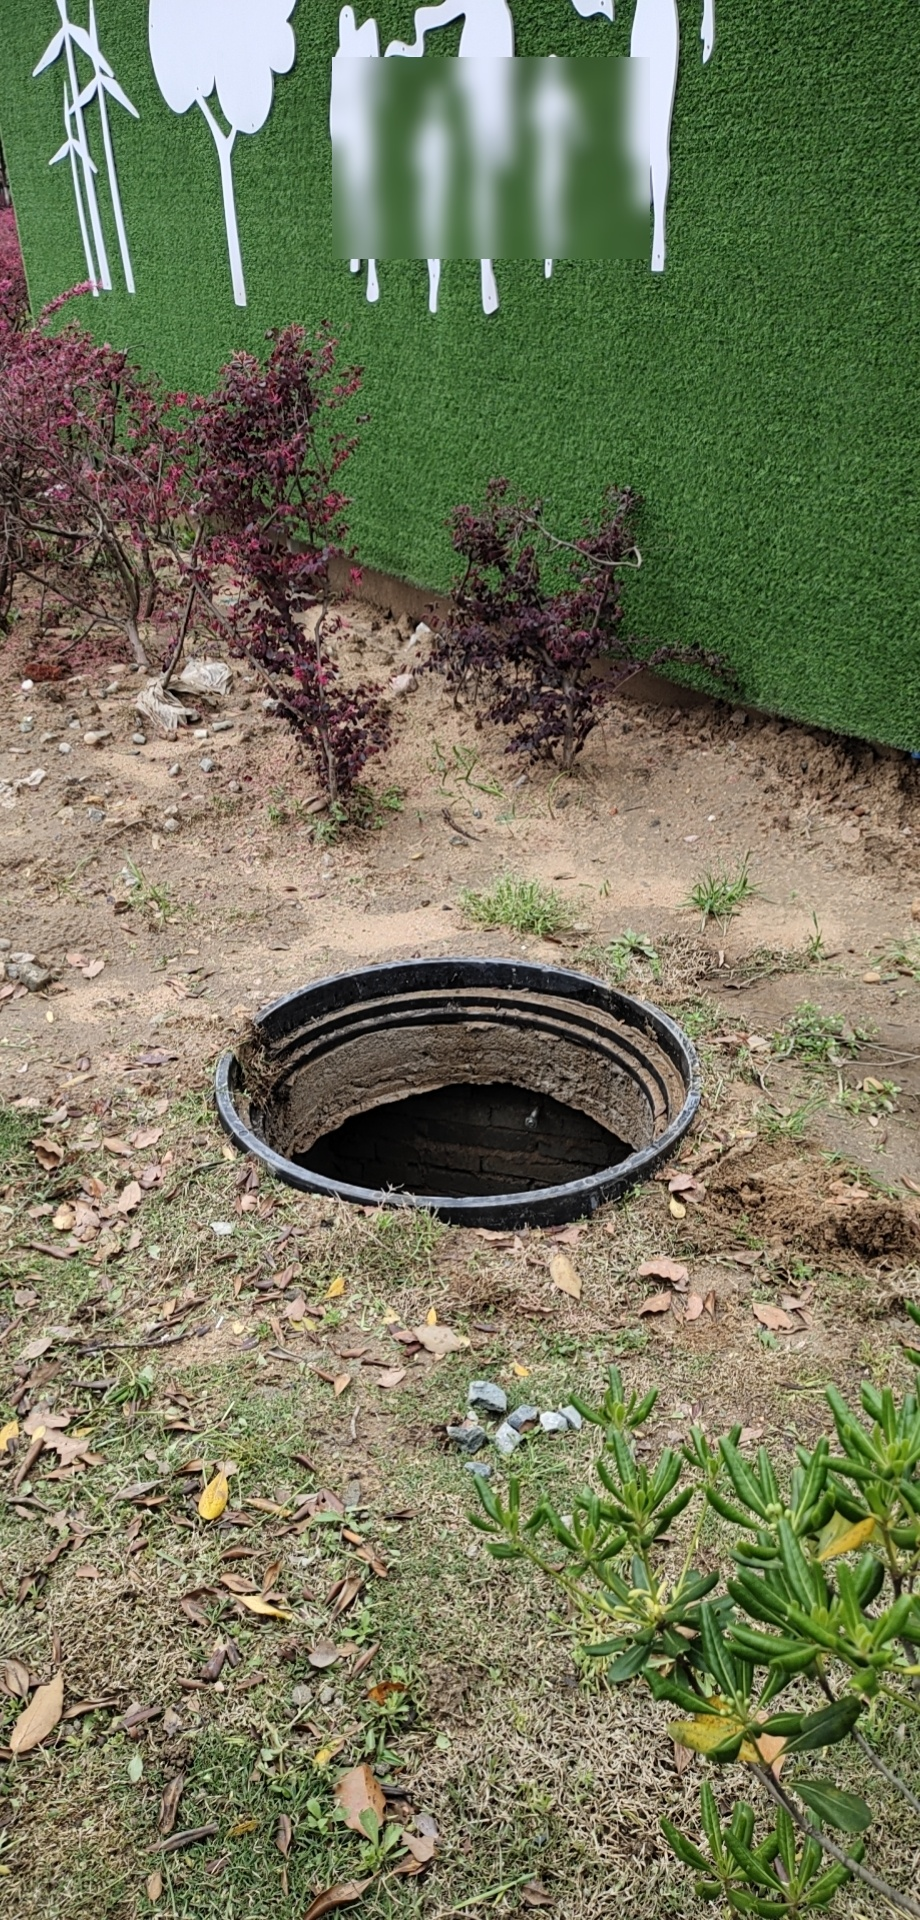lose: (203, 949, 702, 1224)
